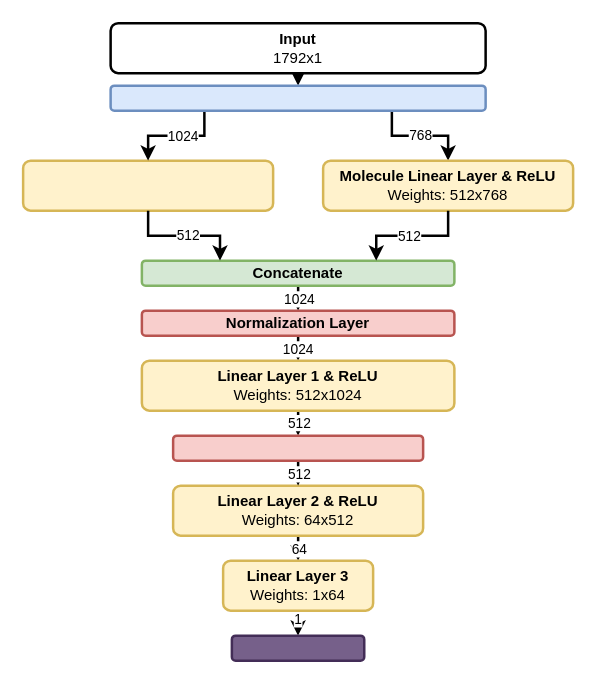
This 595x683 diagram has some shape labels left out. Here are the shapes that lost their labels. From the top down, the centre of each, then its label:
(297,97): Split
(147,185): Protein Linear Layer & ReLU Weights: 512x1024
(297,447): Dropout Layer
(297,647): affinity norm
